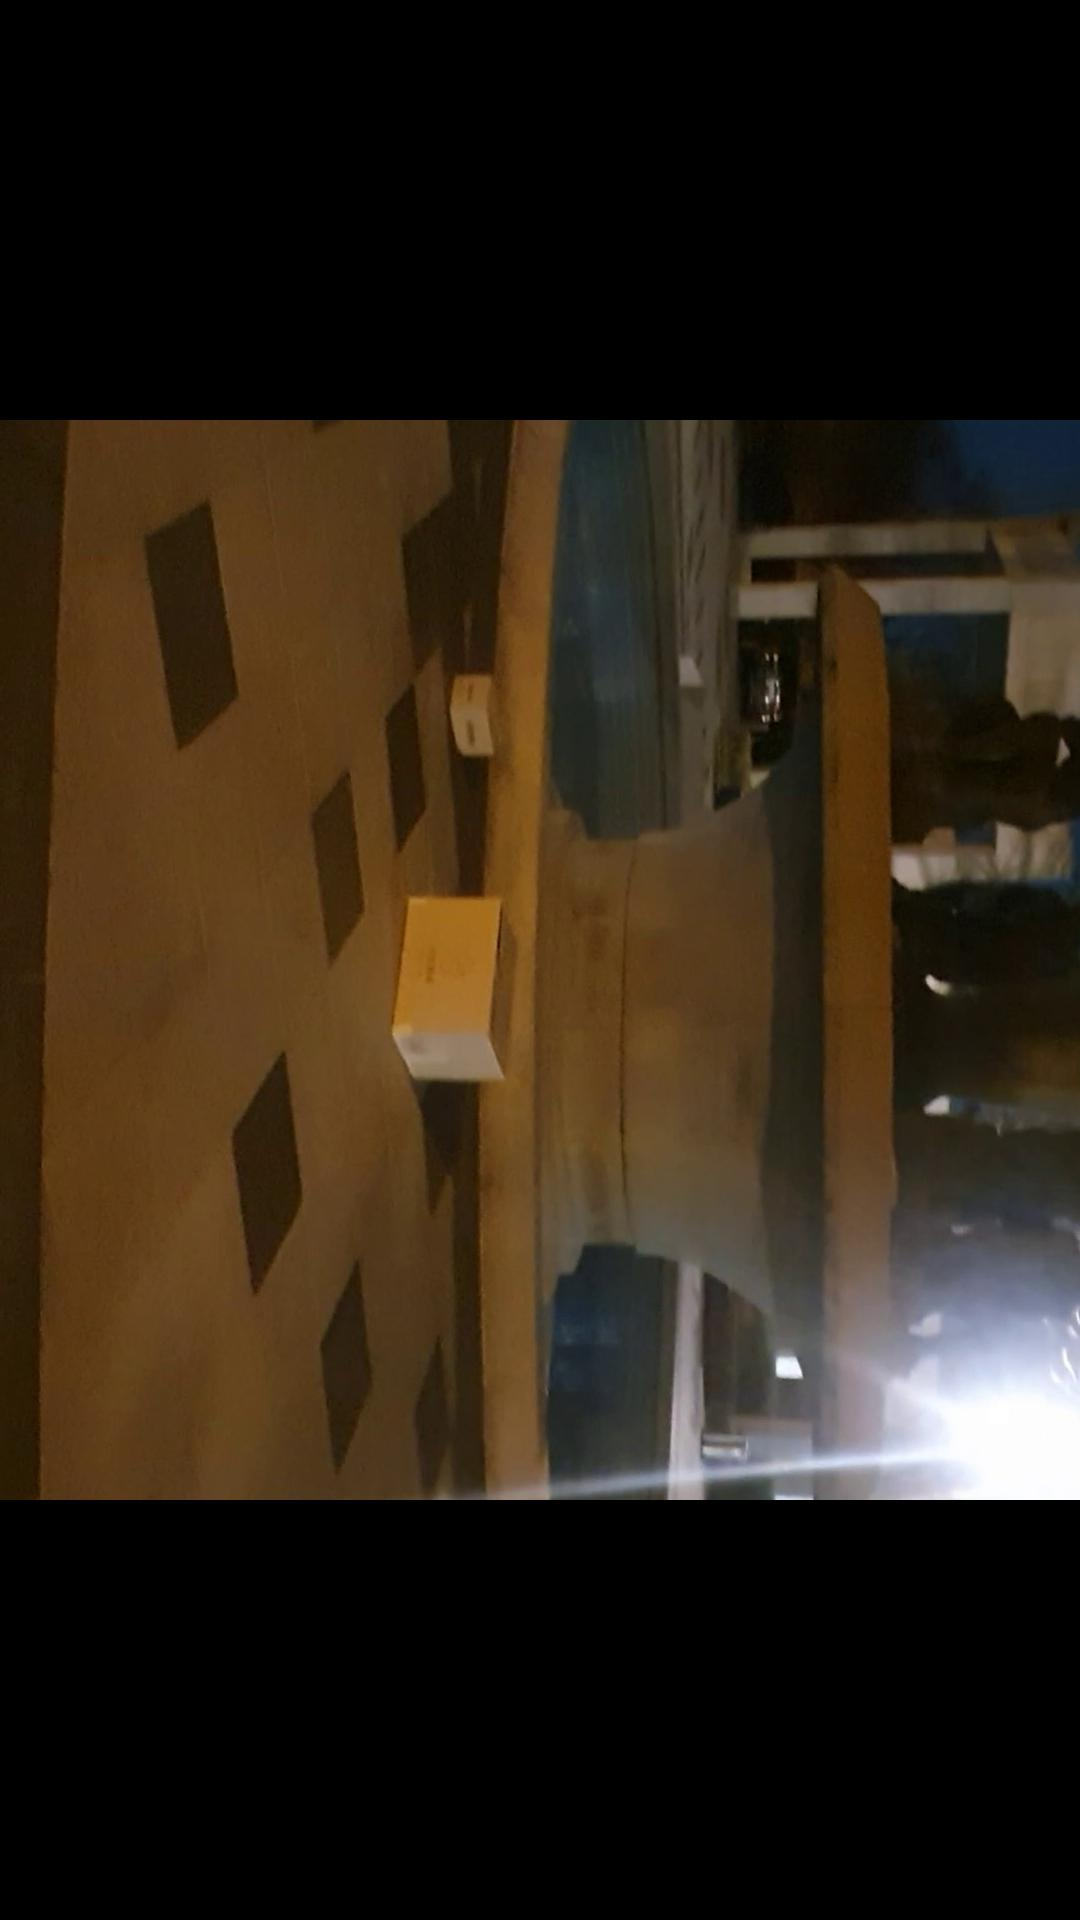Box: (385, 886, 527, 1085), (433, 663, 517, 765)
